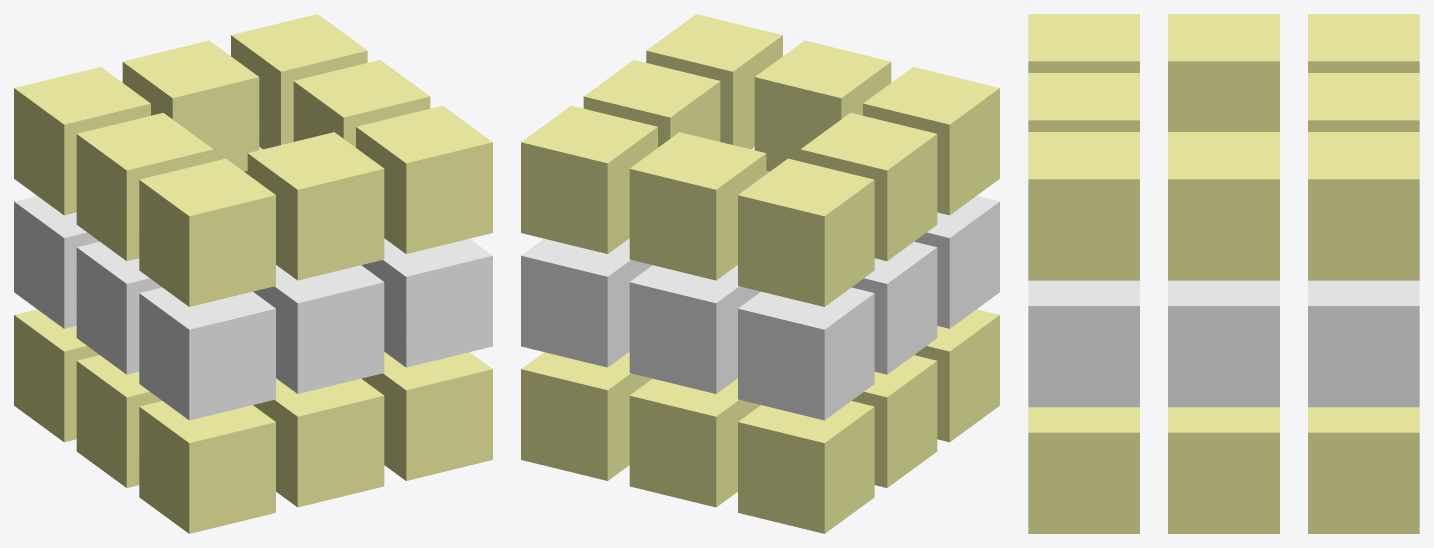
The model's file is wall.cube.obj.
3 renders of one model, left to right at view 1: azimuth 30°, elevation 25°; view 2: azimuth 150°, elevation 25°; view 3: azimuth 270°, elevation 25°, orthographic. The views are drawn at different scales.
Bounding box in the file's own units: 2.8 × 2.8 × 2.8.
Materials: 1 (1 with a texture image).
